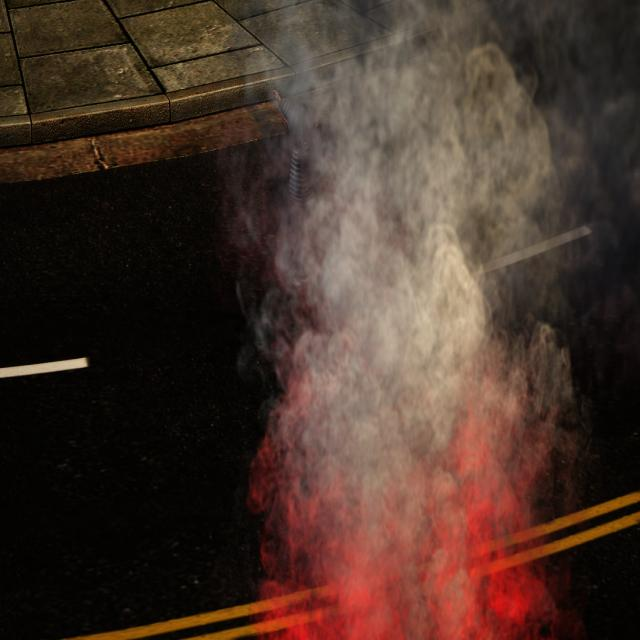Human: (273, 84, 317, 301)
